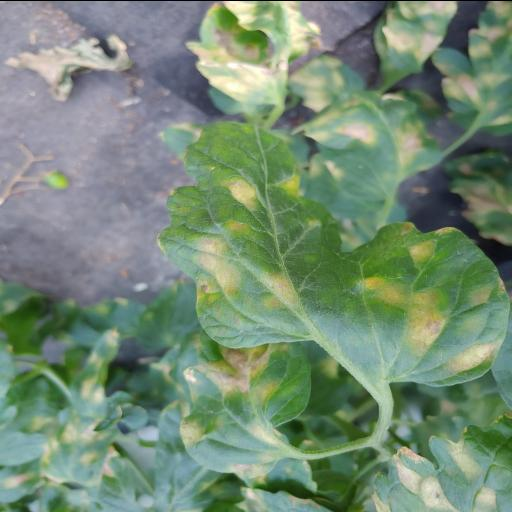disease_tomato: (154, 118, 512, 386), (182, 332, 312, 478)
